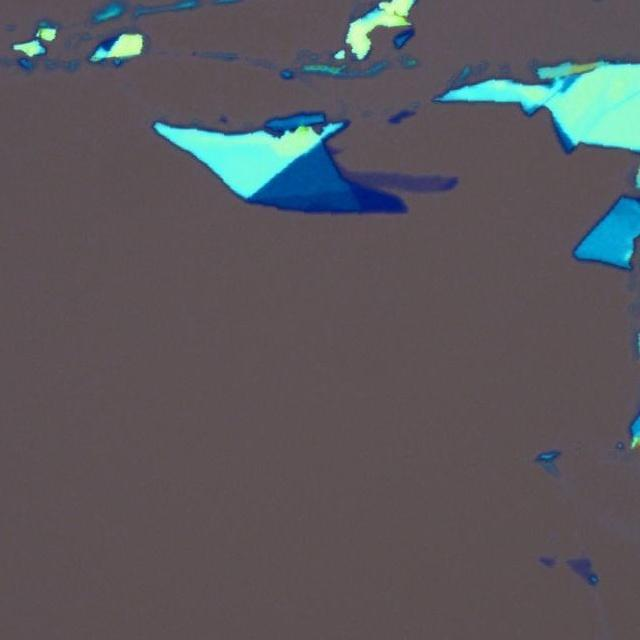monolayer-eWW4: (336, 163, 446, 196)
